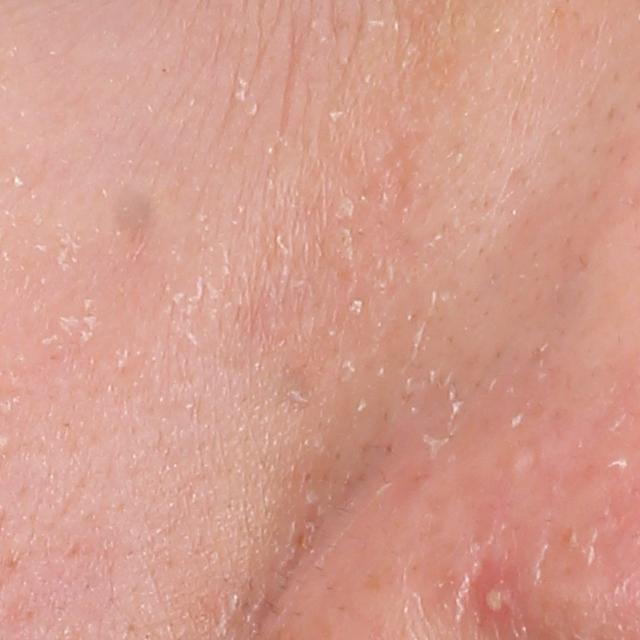pustule: (469, 559, 529, 631)
